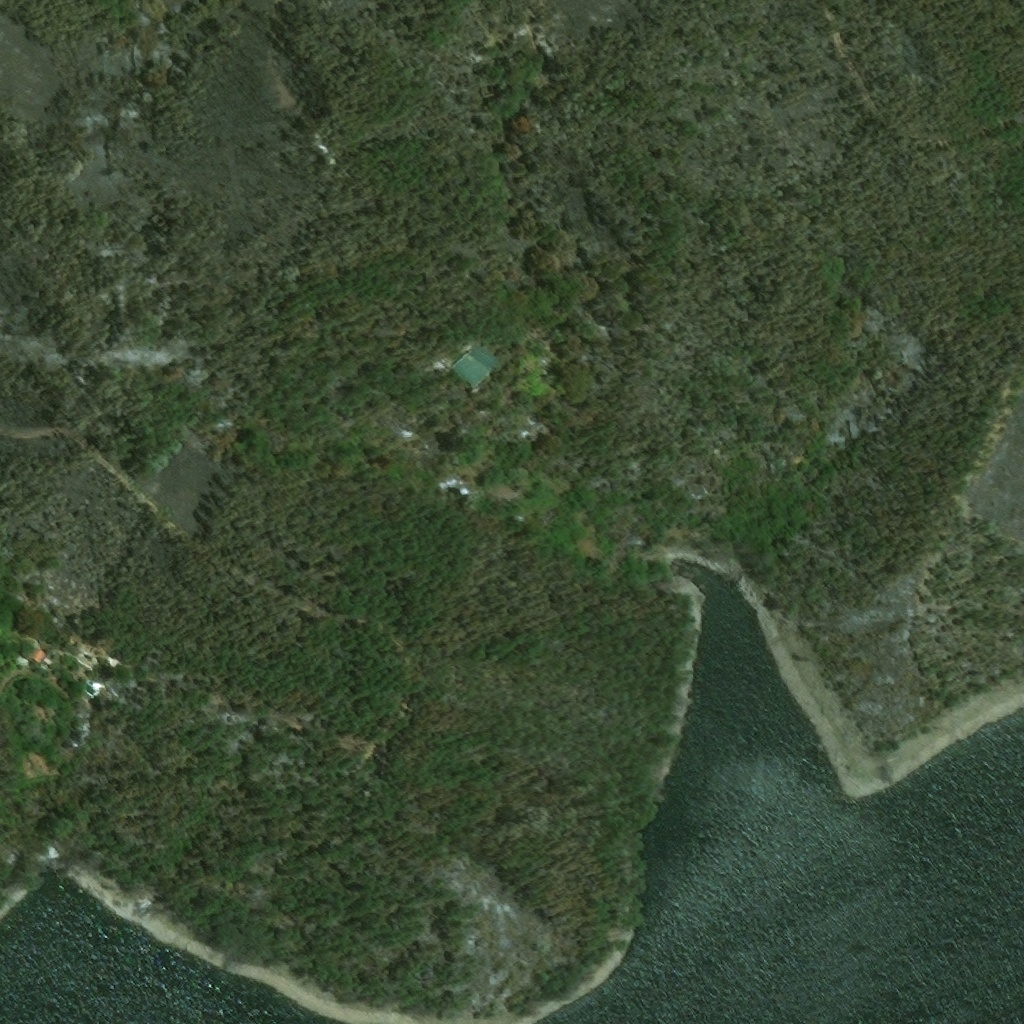0 no-damage: (451, 339, 503, 390), (28, 643, 50, 664), (86, 680, 108, 698), (15, 654, 32, 668), (108, 657, 118, 667)
